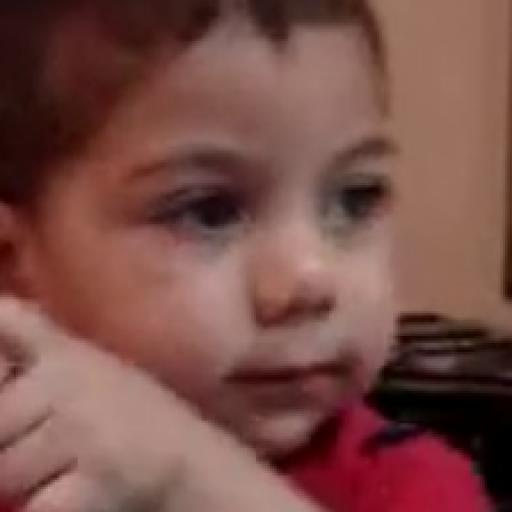Autism: (8, 26, 488, 501)
